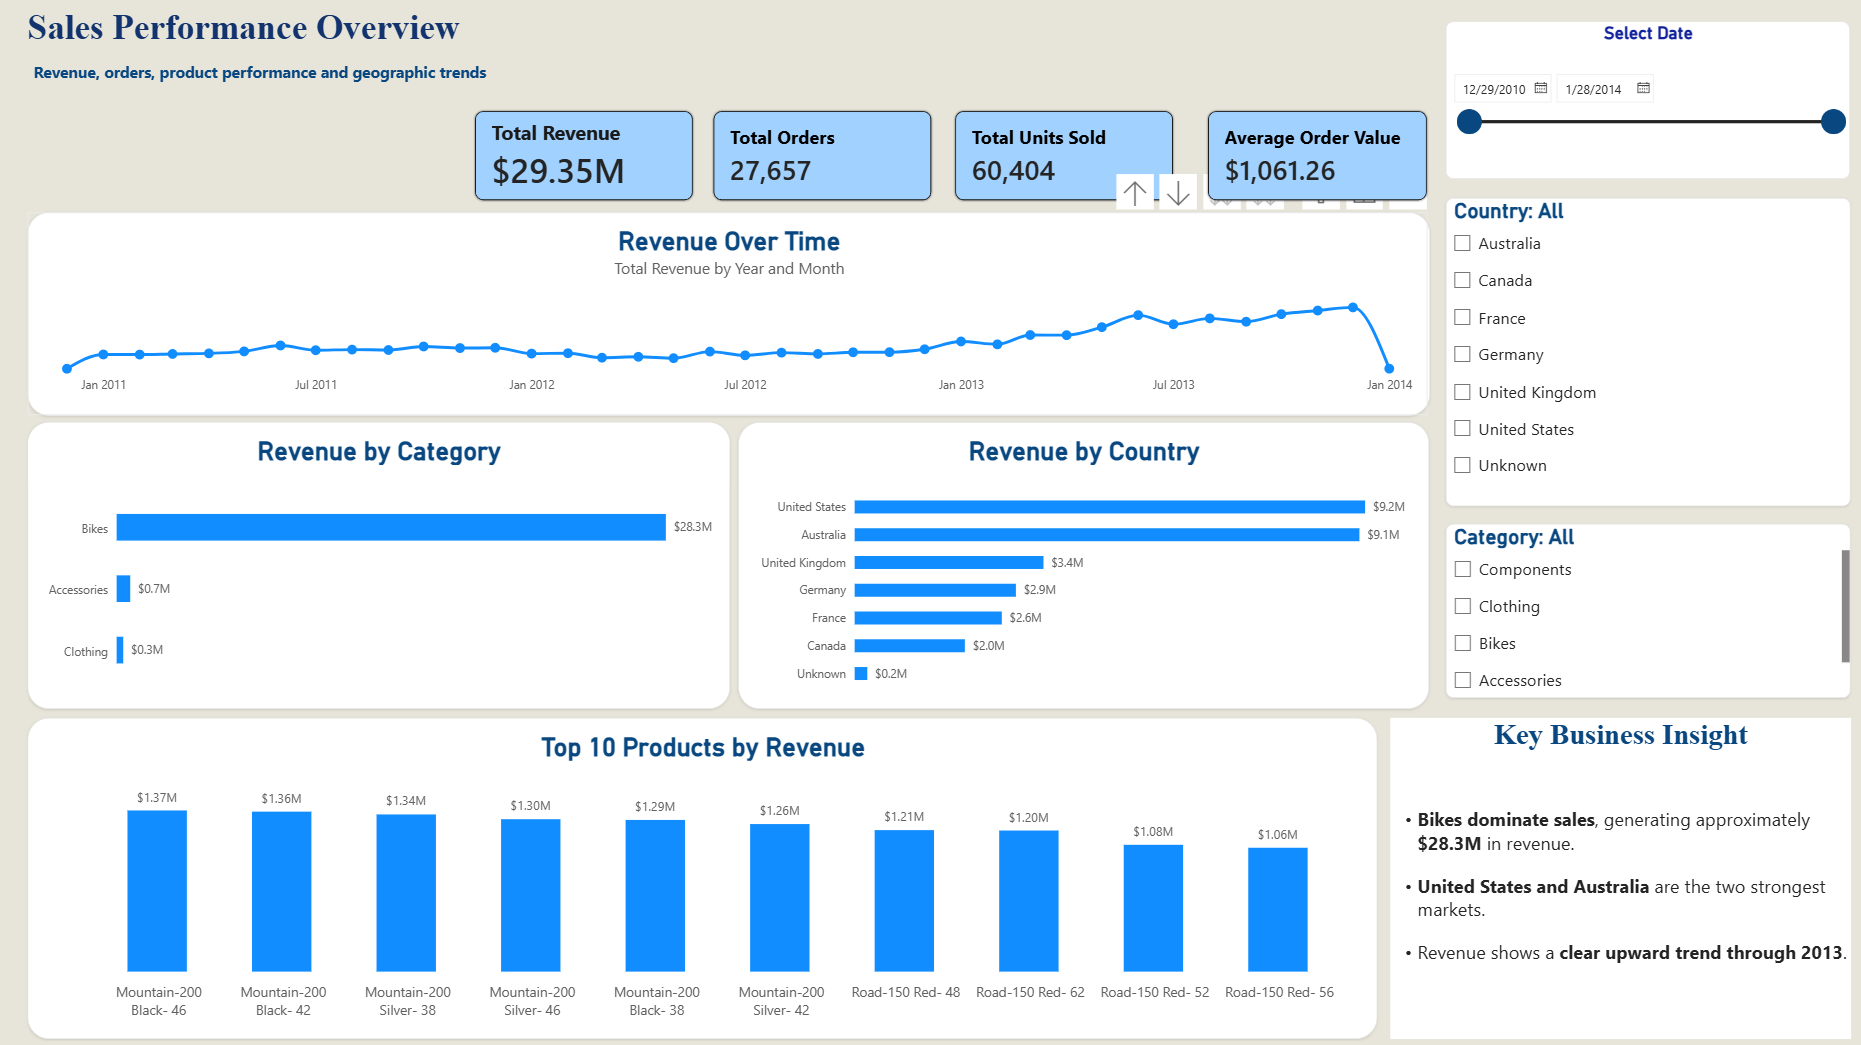

This screenshot's page, from the dashboard's own definition file:
{"tool":"powerbi","page":{"name":"Sales Overview","canvas":[1920,1080],"ordinal":0},"visuals":[{"type":"cardVisual","fields":{"Data":["fact_sales.Total Units Sold"]},"box":[979.1,115.5,229,96.7],"z":0},{"type":"cardVisual","fields":{"Data":["fact_sales.Total Orders"]},"box":[731.4,115.5,229,96.7],"z":1000},{"type":"lineChart","title":"Revenue Over Time","fields":{"Category":["fact_sales.order_date.Variation.Date Hierarchy.Year","fact_sales.order_date.Variation.Date Hierarchy.Month"],"Y":["fact_sales.Total Revenue"]},"box":[28.6,221.1,1438.9,208.9],"z":2000},{"type":"clusteredBarChart","title":"Revenue by Category","fields":{"Category":["dim_products.category"],"Y":["fact_sales.Total Revenue"]},"box":[29.6,437.2,720.5,294.1],"z":3000},{"type":"clusteredColumnChart","title":"Top 10 Products by Revenue","fields":{"Category":["dim_products.product_name"],"Y":["fact_sales.Total Revenue"]},"box":[29.4,740.7,1385.2,329.6],"z":4000},{"type":"clusteredBarChart","title":"Revenue by Country","fields":{"Category":["dim_customers.country"],"Y":["fact_sales.Total Revenue"]},"box":[759,437.2,708.7,294.1],"z":5000},{"type":"slicer","fields":{"Values":["dim_customers.country"]},"box":[1485,206.7,415,316.2],"z":6000},{"type":"slicer","fields":{"Values":["dim_products.category"]},"box":[1485,542.1,415,178.8],"z":7000},{"type":"slicer","title":"Select Date","fields":{"Values":["fact_sales.order_date"]},"box":[1485.4,26.6,414.5,161.9],"z":8000},{"type":"cardVisual","fields":{"Data":["fact_sales.Average Order Value"]},"box":[1238.7,115.5,230,96.7],"z":9000},{"type":"cardVisual","fields":{"Data":["fact_sales.Total Revenue"]},"box":[485.6,115.5,229,96.7],"z":10000},{"type":"textbox","title":"Sales Performance Overview","box":[29.4,11.4,476.4,200.7],"z":11000},{"type":"textbox","title":"Key Business Insight","box":[1427.6,740.7,473.1,329.6],"z":12000}]}

Visuals, with their boxes in screenshot pixels (x1, y1, x2, y2), scaled from the page's 1920x1080 canvas onto the 1861x1045 screenshot:
cardVisual - fact_sales.Total Units Sold: 949 112 1171 205
cardVisual - fact_sales.Total Orders: 709 112 931 205
"Revenue Over Time" lineChart: 28 214 1422 416
"Revenue by Category" clusteredBarChart: 29 423 727 708
"Top 10 Products by Revenue" clusteredColumnChart: 28 717 1371 1036
"Revenue by Country" clusteredBarChart: 736 423 1423 708
slicer - dim_customers.country: 1439 200 1842 506
slicer - dim_products.category: 1439 525 1842 698
"Select Date" slicer: 1440 26 1842 182
cardVisual - fact_sales.Average Order Value: 1201 112 1424 205
cardVisual - fact_sales.Total Revenue: 471 112 693 205
"Sales Performance Overview" textbox: 28 11 490 205
"Key Business Insight" textbox: 1384 717 1842 1036
